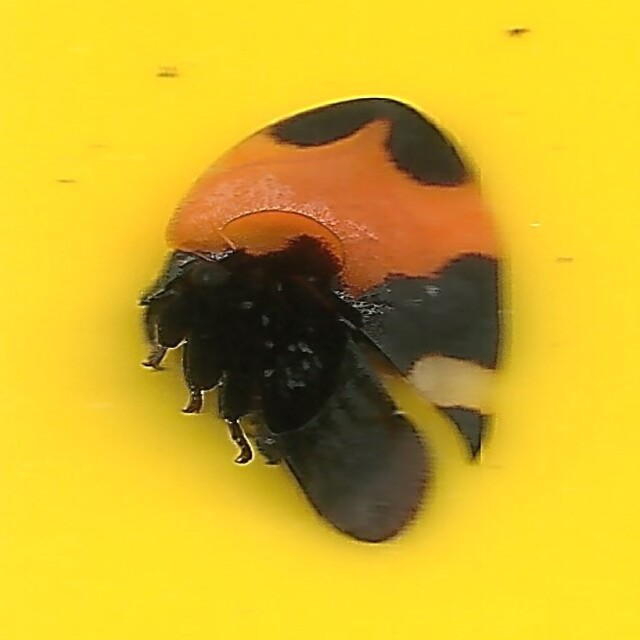Hemiptera: (139, 96, 501, 544)
